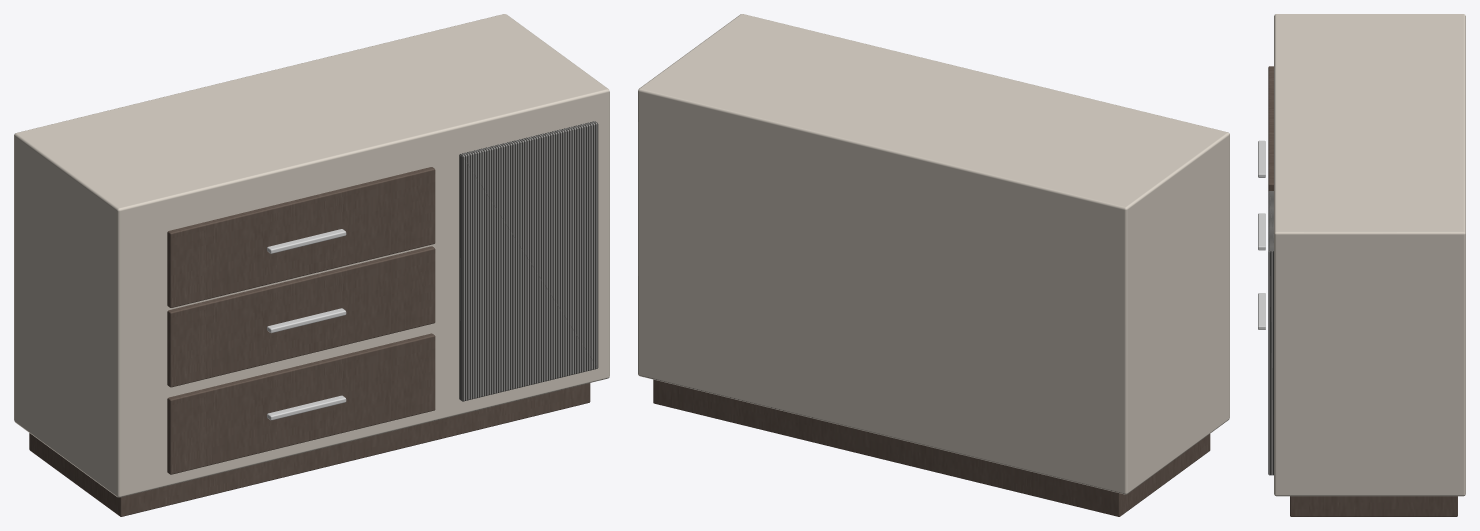
The model's file is talya-bedset-with-wardrobe--dresser.glb.
The picture shows the model from 3 angles, left to right: view 1: azimuth 30°, elevation 25°; view 2: azimuth 150°, elevation 25°; view 3: azimuth 270°, elevation 25°; orthographic projection. The views are drawn at different scales.
Visible parts, largest first — view 1: body, stripes, dr0, dr1, dr2, plinth, pull0, pull2, pull1; view 2: body, plinth; view 3: body, plinth, stripes, dr2, pull1, pull2, pull0.
Part boxes in pixels (bbox=[...]): body: bbox=[14, 14, 609, 497]; stripes: bbox=[459, 121, 598, 401]; dr0: bbox=[167, 333, 435, 474]; dr1: bbox=[167, 246, 435, 387]; dr2: bbox=[167, 167, 435, 307]; plinth: bbox=[29, 383, 590, 516]; pull0: bbox=[267, 395, 346, 420]; pull2: bbox=[267, 229, 346, 253]; pull1: bbox=[267, 308, 346, 333]; body: bbox=[638, 14, 1229, 494]; plinth: bbox=[653, 379, 1210, 516]; body: bbox=[1274, 14, 1465, 496]; plinth: bbox=[1290, 496, 1457, 516]; stripes: bbox=[1268, 191, 1273, 475]; dr2: bbox=[1268, 66, 1273, 191]; pull1: bbox=[1258, 213, 1265, 250]; pull2: bbox=[1258, 140, 1265, 177]; pull0: bbox=[1258, 293, 1265, 329].
Size of the model in its own units: 1.3 by 0.8 by 0.52.
4 materials, 2 textured.
